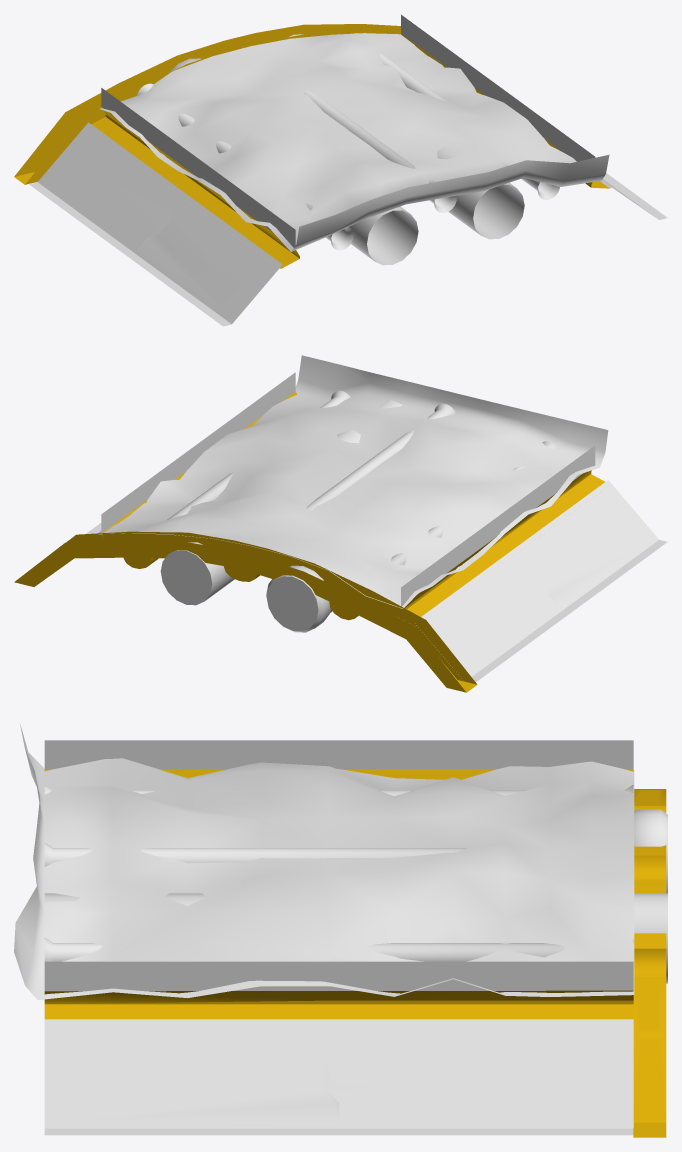
Rendered from env_minidungeon_corridor_pieces03.fbx.
The picture shows the model from 3 angles, top to bottom: view 1: azimuth 30°, elevation 25°; view 2: azimuth 150°, elevation 25°; view 3: azimuth 270°, elevation 25°; orthographic projection. The views are drawn at different scales.
Visible parts, largest first — view 1: env_minidungeons_corridor_pieces03_lod0; view 2: env_minidungeons_corridor_pieces03_lod0; view 3: env_minidungeons_corridor_pieces03_lod0.
Part boxes in pixels (x1,y1,x2,y2): env_minidungeons_corridor_pieces03_lod0: (14,14,667,326); env_minidungeons_corridor_pieces03_lod0: (14,355,667,692); env_minidungeons_corridor_pieces03_lod0: (14,724,667,1137).
Size of the model in its own units: 163 by 32.84 by 135.
